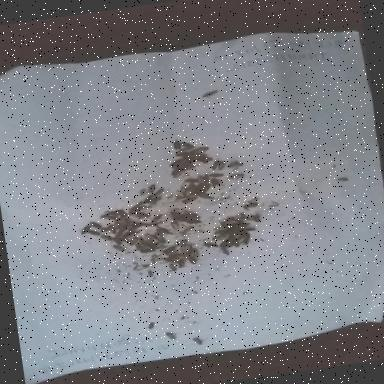pbw: (188, 333, 207, 347), (158, 330, 180, 342), (178, 216, 204, 226), (190, 145, 212, 156), (184, 243, 198, 260), (225, 170, 248, 180), (225, 158, 244, 170), (109, 243, 127, 255), (200, 240, 220, 250), (126, 204, 146, 214), (168, 138, 183, 151), (164, 262, 180, 274), (166, 251, 186, 260), (168, 208, 184, 219), (148, 213, 164, 224), (142, 232, 158, 243), (84, 227, 100, 238), (191, 183, 207, 194), (167, 158, 184, 168), (218, 246, 232, 258), (240, 202, 261, 210), (177, 196, 198, 204), (218, 219, 232, 231), (236, 234, 250, 246), (126, 223, 144, 232), (238, 226, 258, 234), (142, 320, 158, 330), (207, 159, 220, 171), (115, 228, 128, 240), (180, 140, 194, 151), (182, 187, 196, 198), (96, 226, 115, 234), (186, 254, 198, 266), (193, 174, 205, 186), (79, 225, 92, 236), (168, 220, 181, 231), (156, 226, 170, 236), (207, 172, 224, 180), (134, 212, 151, 220), (252, 213, 264, 224), (136, 248, 158, 254), (89, 220, 102, 230), (98, 234, 114, 242), (200, 173, 211, 184), (144, 183, 156, 193), (127, 236, 139, 246), (180, 212, 200, 218), (173, 239, 188, 247), (212, 234, 227, 242), (180, 226, 195, 234), (335, 175, 350, 183), (176, 258, 186, 270), (173, 152, 192, 158), (128, 210, 144, 217), (230, 213, 246, 220), (198, 154, 212, 162), (146, 197, 162, 204), (161, 246, 175, 254), (224, 240, 238, 248), (152, 188, 166, 196), (216, 161, 226, 172), (154, 239, 166, 248), (142, 222, 160, 228), (136, 188, 148, 197), (238, 222, 251, 230), (236, 214, 249, 222), (112, 236, 122, 246), (100, 214, 114, 221), (126, 231, 140, 238), (214, 228, 230, 234), (174, 148, 190, 154), (142, 194, 154, 202), (194, 158, 207, 165), (210, 178, 219, 188), (134, 242, 143, 252), (108, 224, 116, 234), (145, 270, 154, 278)
